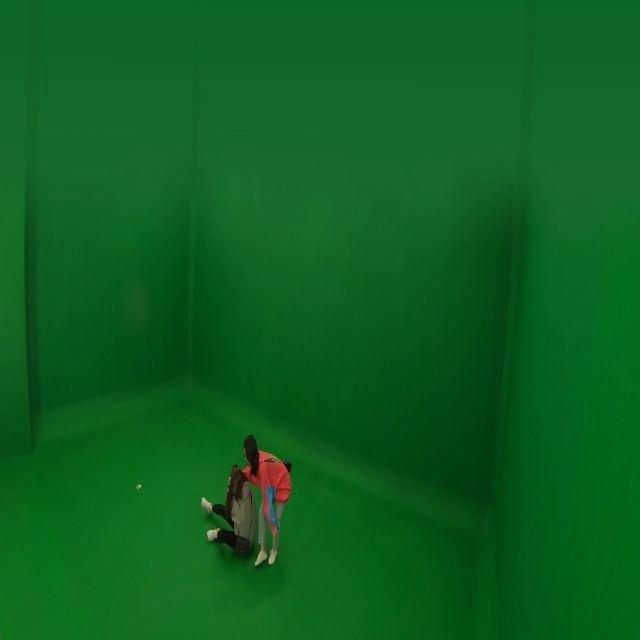fight: (196, 432, 292, 568)
